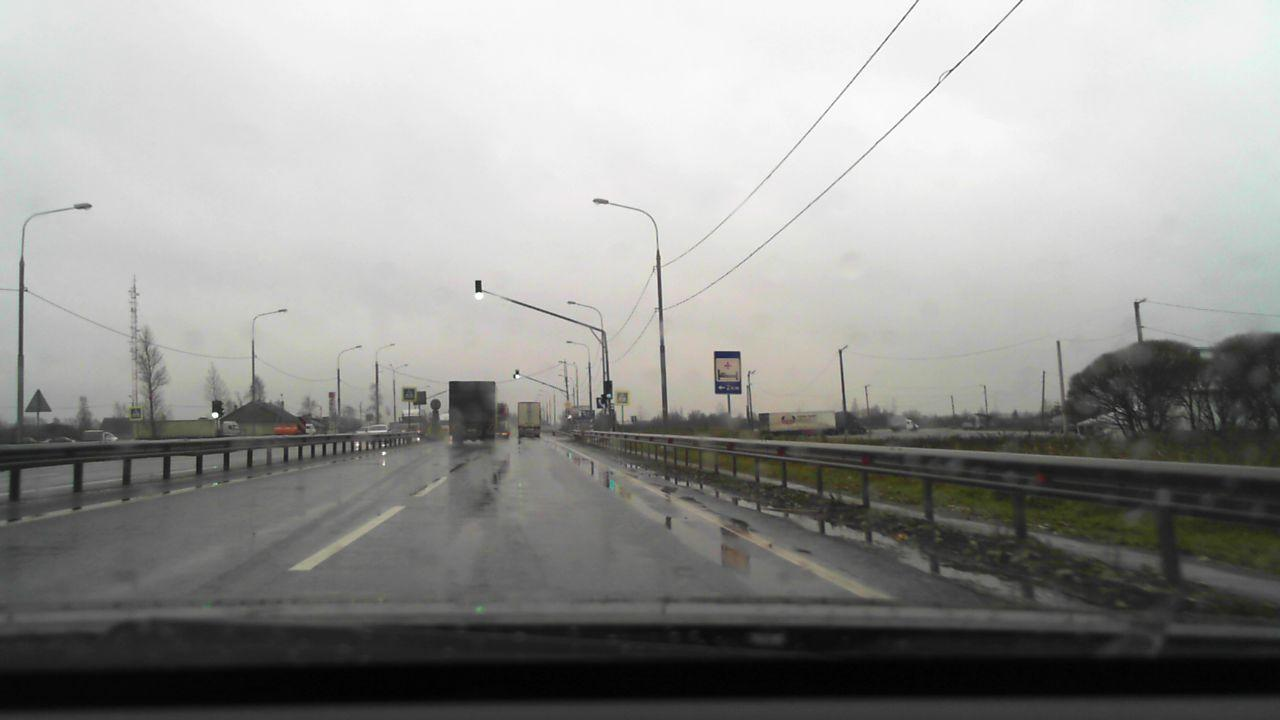7_2: (713, 351, 741, 394)
